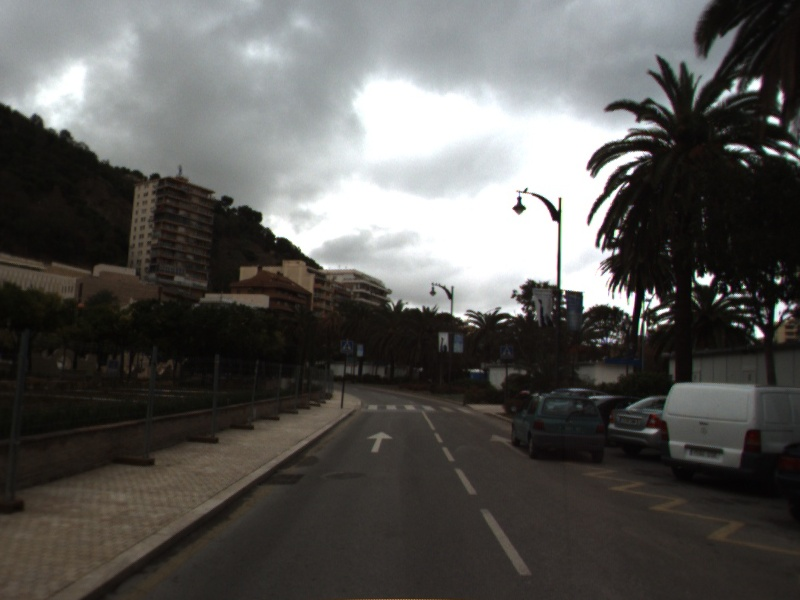STRAIGHT: (489, 432, 531, 458), (365, 430, 394, 454)
